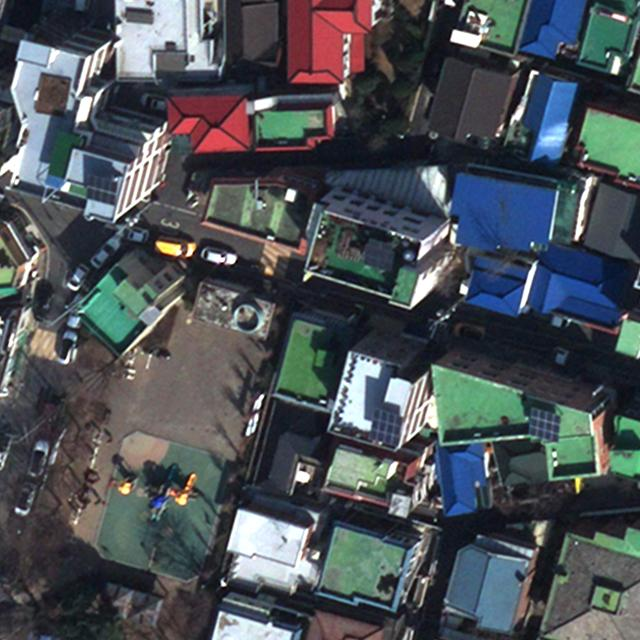panel: (525, 404, 562, 444), (369, 408, 404, 447), (362, 237, 396, 273), (84, 171, 119, 205)
